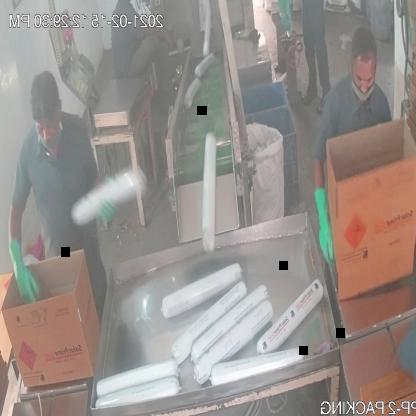glove: (308, 170, 343, 280), (0, 232, 44, 309)
